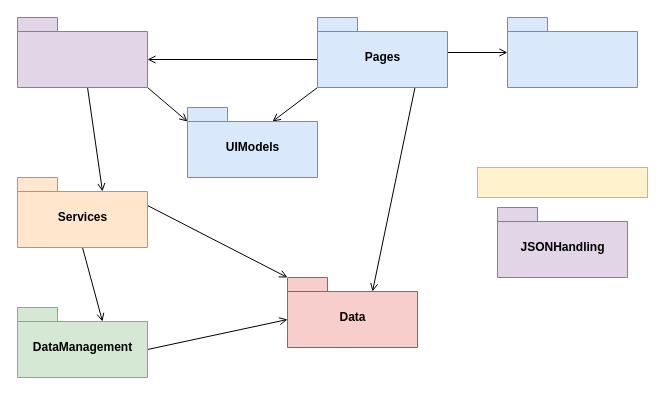
The diagram is 665 pixels wide and 395 high, and some of its shapes have lost their labels. Here are the shapes that lost their labels. From the top down, the centre of each, then its label:
At point (82, 52): "Store".
At point (572, 52): "Shared".
At point (562, 182): "Only used by LocalStorage framework, set in Program.cs".
